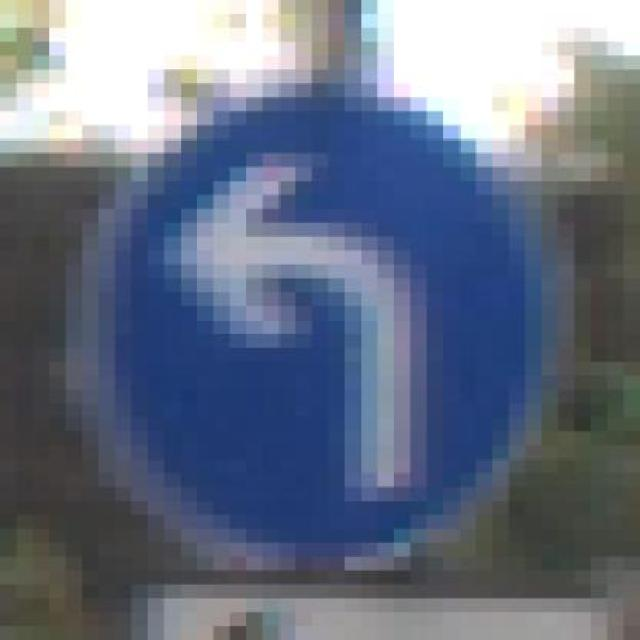Turn left ahead: (66, 83, 574, 585)
